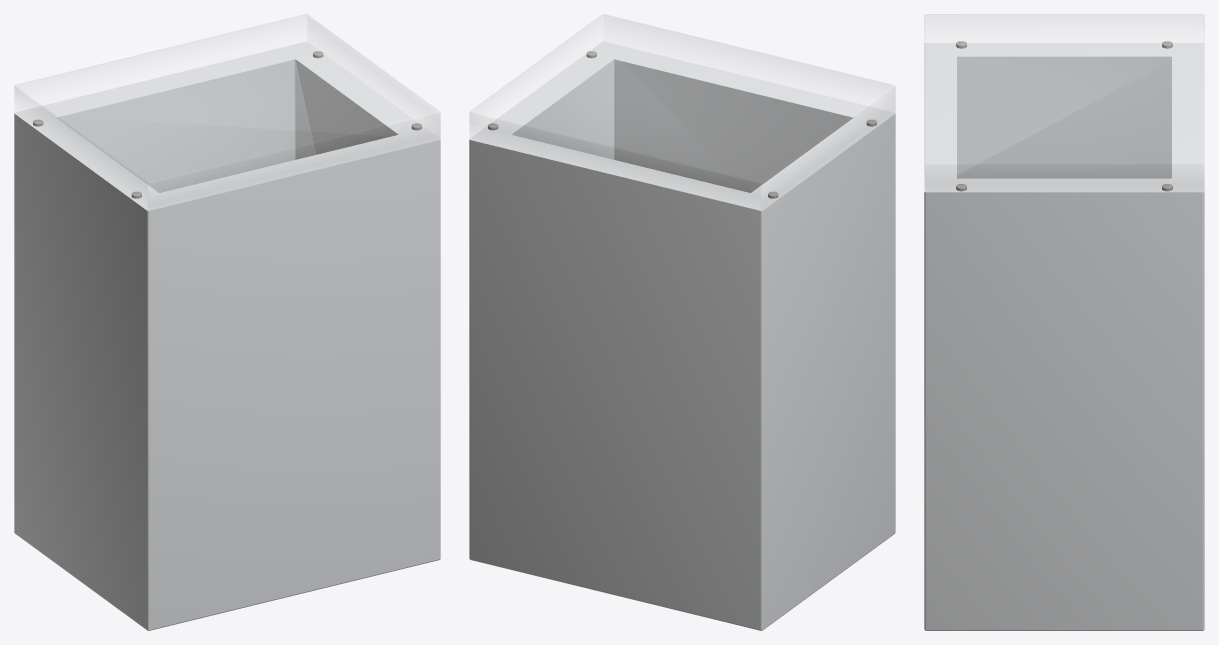
File: acrylic-case-style-2.glb
3 views of the same model, side by side, from view 1: azimuth 30°, elevation 25°; view 2: azimuth 150°, elevation 25°; view 3: azimuth 270°, elevation 25° (orthographic). The views are drawn at different scales.
Parts seen in each view (by area): view 1: Cube, Cube.002; view 2: Cube, Cube.002; view 3: Cube, Cube.002.
Part boxes in pixels (x1,y1,x2,y2): Cube: [14, 41, 440, 630]; Cube.002: [14, 14, 440, 210]; Cube: [469, 41, 895, 630]; Cube.002: [469, 14, 895, 210]; Cube: [924, 43, 1204, 630]; Cube.002: [924, 14, 1204, 191].
Bounding box in the file's own units: 0.13 × 0.19 × 0.103.
4 materials, 3 textured.
